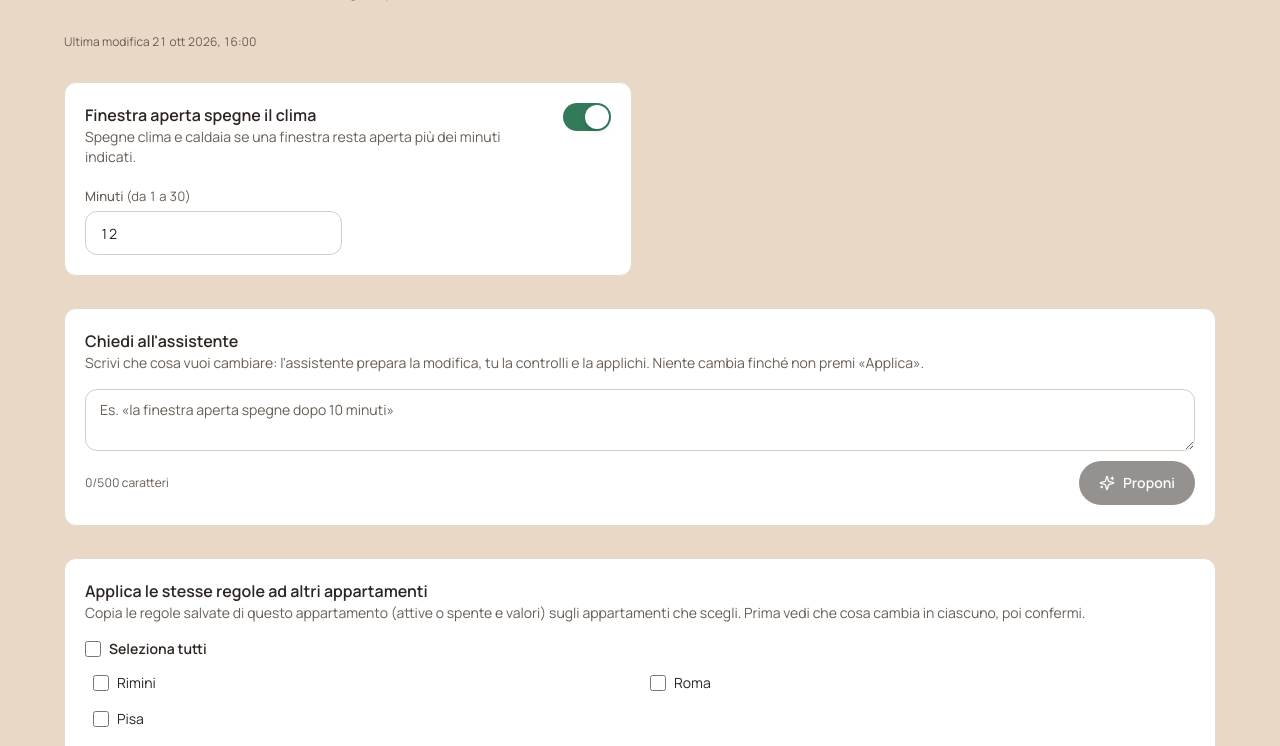
Regole: copia su altri appartamenti (D-151) › anteprima: per ogni appartamento che cosa cambia, «già uguale», non raggiungibile, e l'avviso sulle regole personalizzate
The width and height of the screenshot is (1280, 746).
Expected: the element with test id "rule-card-window_open_off" is shown, [64,82,632,276]
Click the checkbox with test id "rules-copy-target-apt-rimini-01" at coordinates (101, 683), box [93,675,109,691]
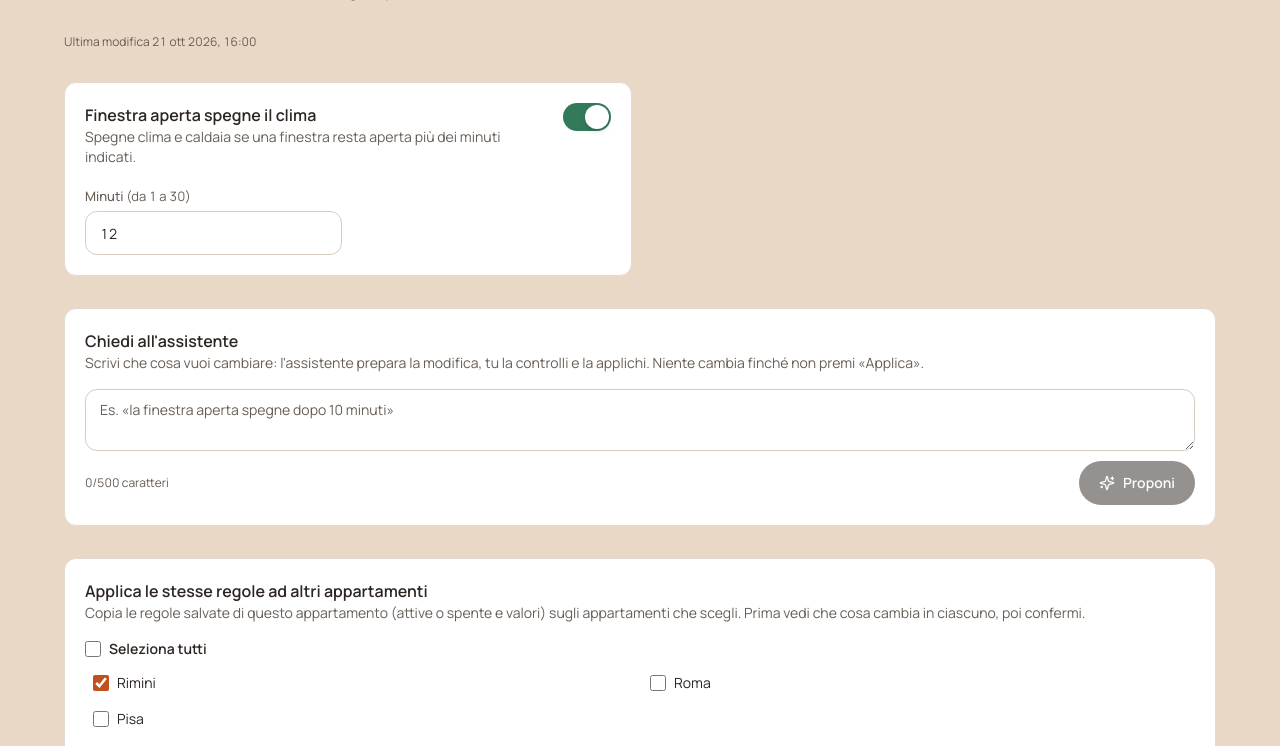
Click the checkbox labelled "Roma" at coordinates (658, 683), box [650,675,666,691]
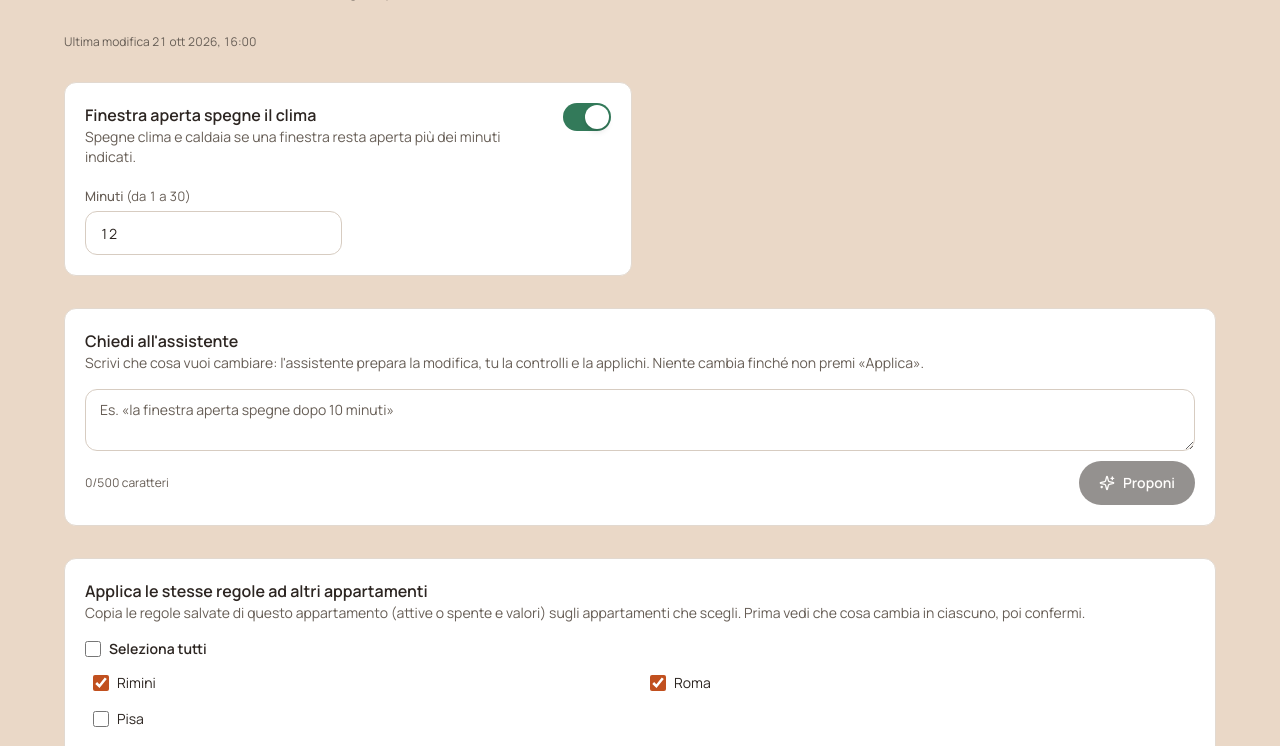
Click the checkbox labelled "Pisa" at coordinates (101, 719), box [93,711,109,727]
(page scrolled)
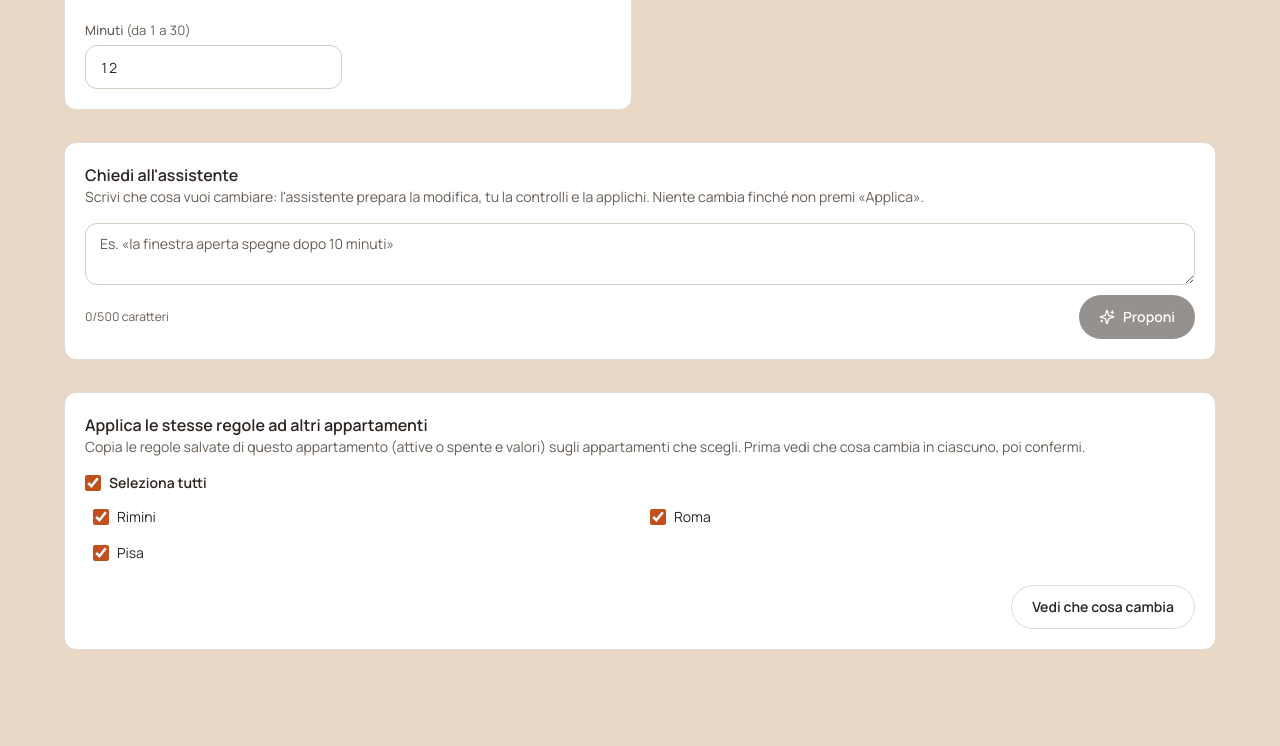
Click the button with test id "rules-copy-preview" at coordinates (1103, 607), box [1011,585,1195,629]
(page scrolled)
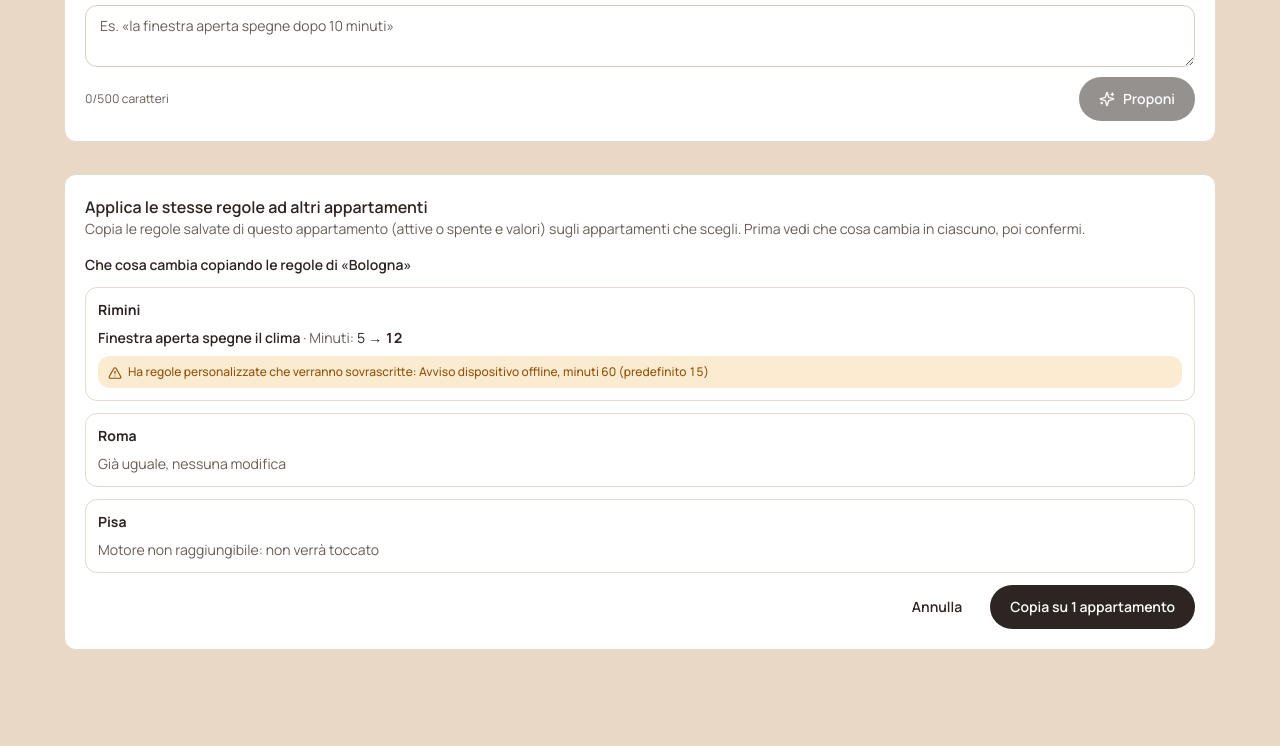
Now the list with test id "rules-copy-changes-apt-rimini-01" reads "Finestra aperta spegne il clima · Minuti: 5 → 12", box [98,328,402,347]
Now the element with test id "rules-copy-customized-apt-rimini-01" shows "Ha regole personalizzate che verranno sovrascritte: Avviso dispositivo offline, minuti 60 (predefinito 15)", box [128,363,709,380]
Now the element with test id "rules-copy-row-apt-roma-01" shows "Già uguale, nessuna modifica", box [98,454,286,473]
